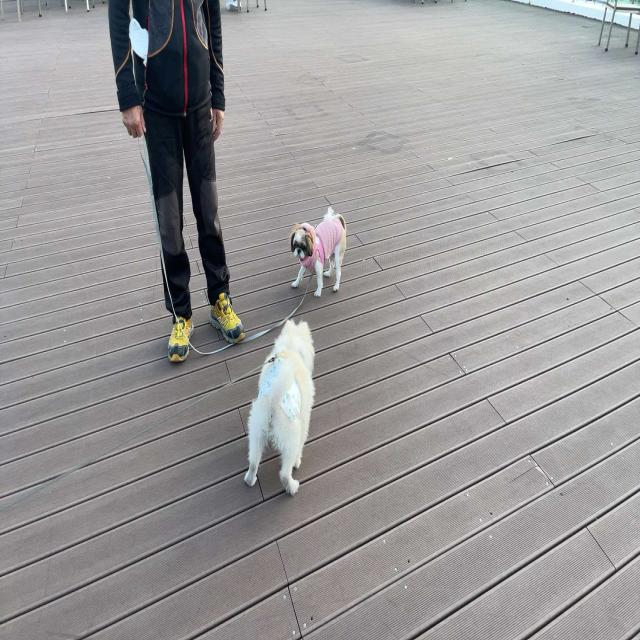Dog: (244, 318, 316, 497)
Leashed_Dog: (143, 95, 347, 360)
